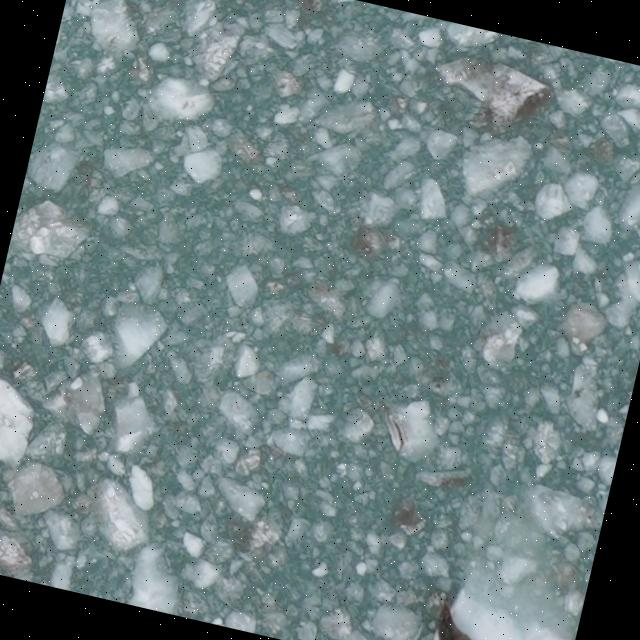seal: (427, 592, 515, 640)
